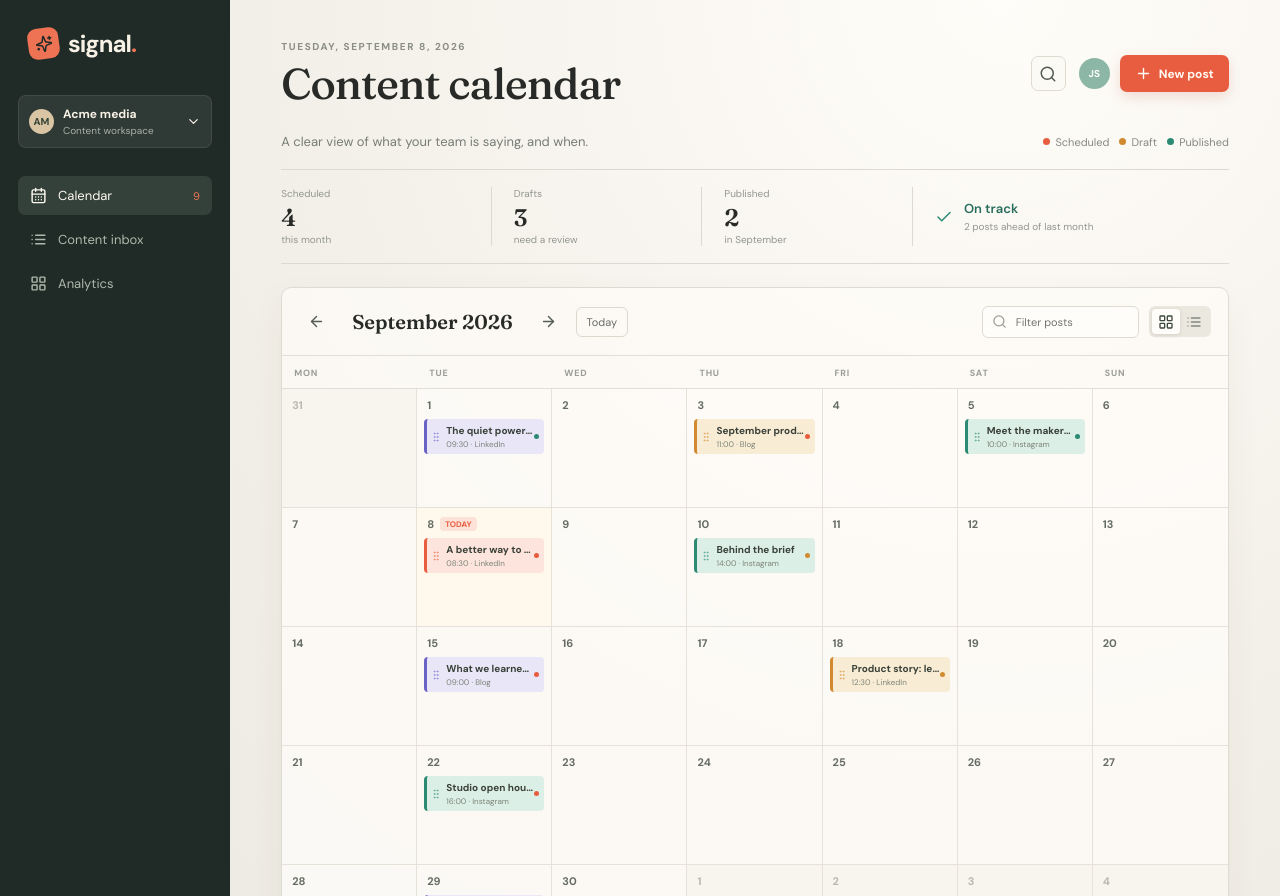
Test: calendar interface › opens the composer and adds a post
Click the button "New post" at (1174, 74), box x1=1120 y1=55 x2=1229 y2=92
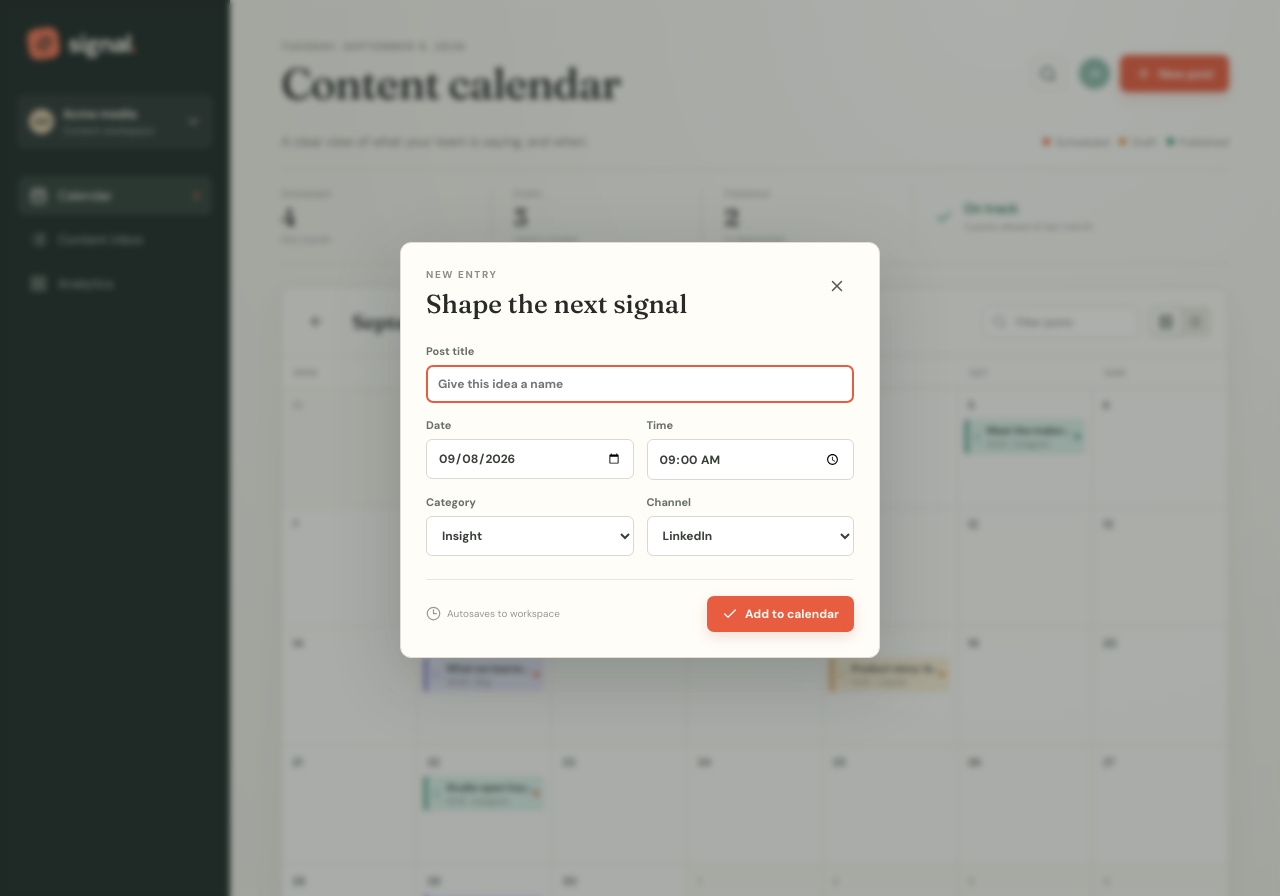
Type "A thoughtful update" into the field labelled "Post title" at (640, 384), box x1=426 y1=365 x2=854 y2=403
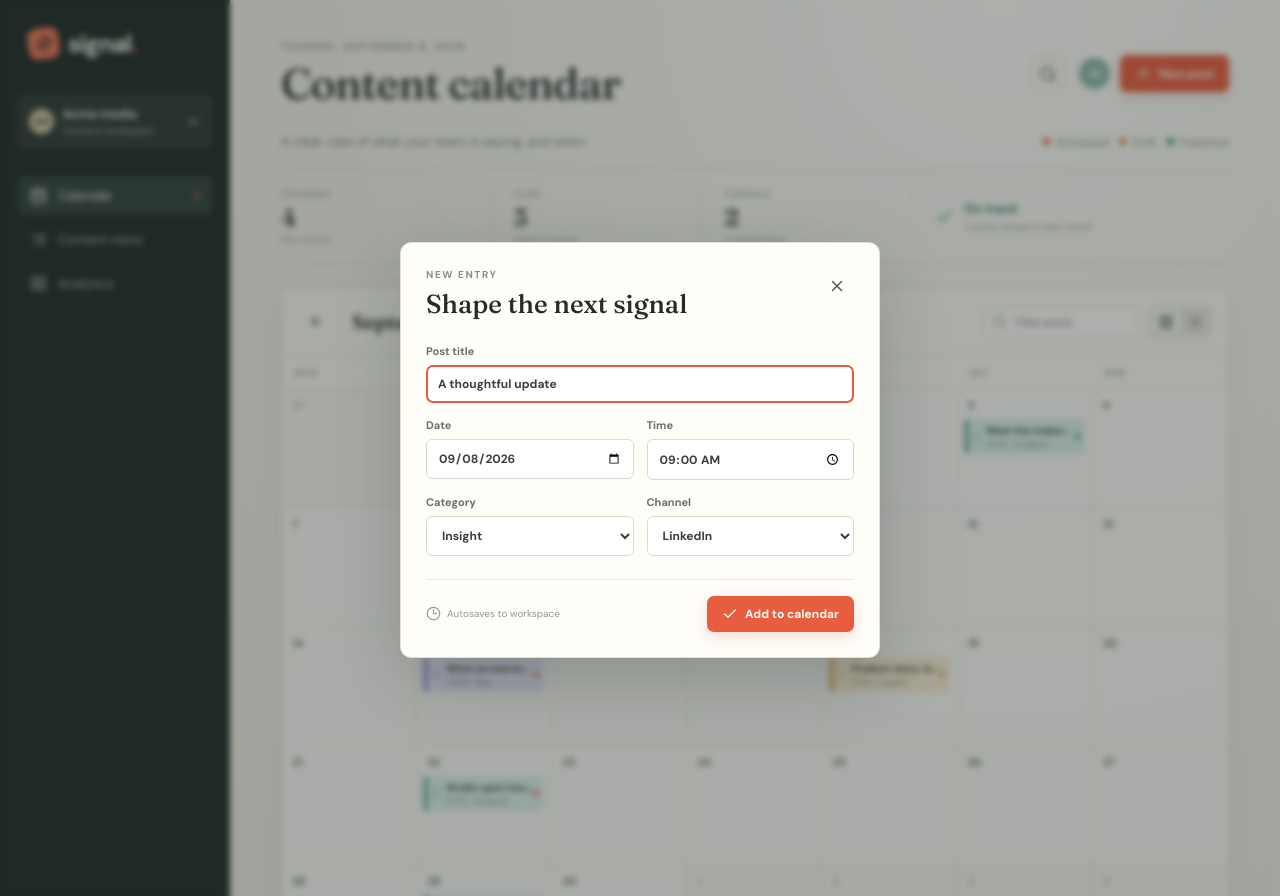
Click the button "Add to calendar" at (781, 614), box x1=707 y1=596 x2=854 y2=632
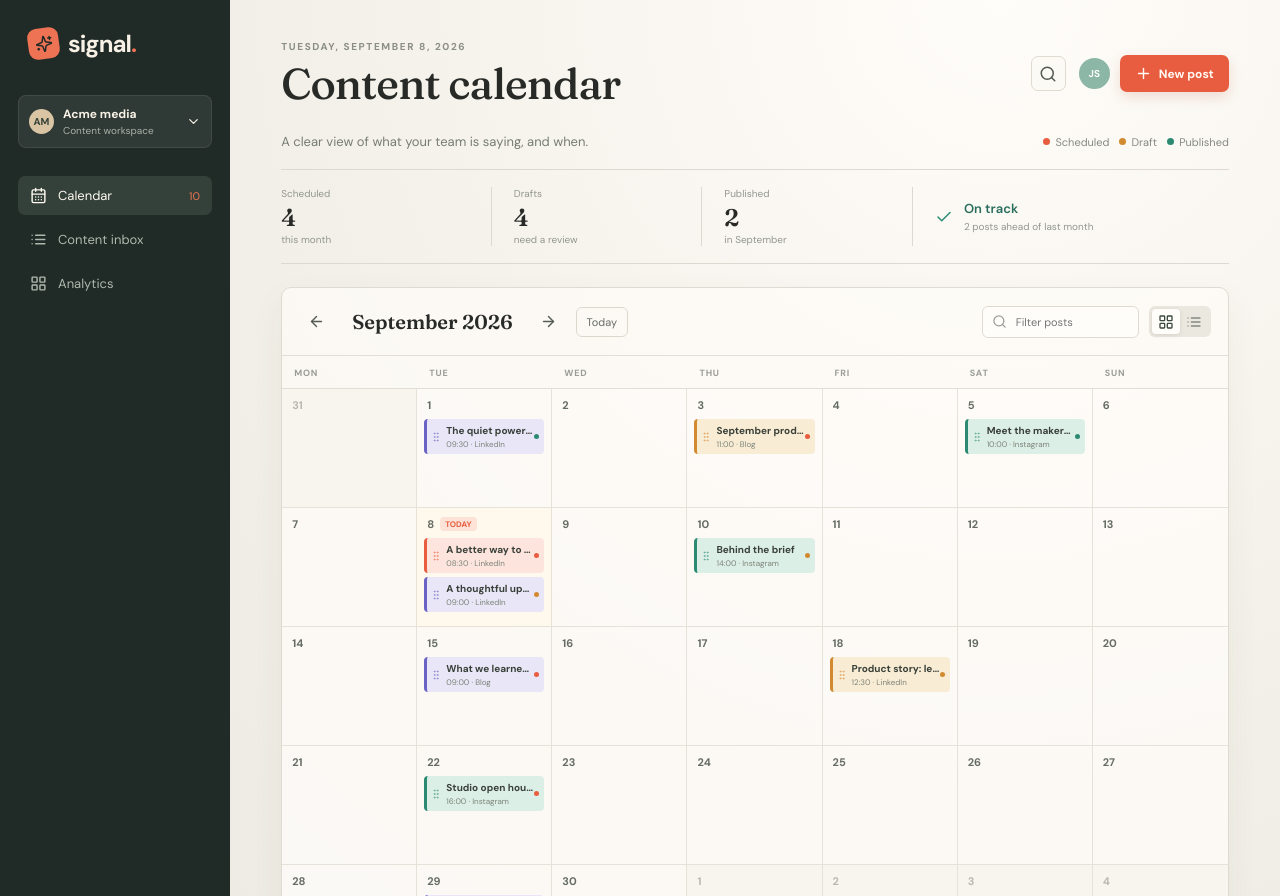
Expected: the text "A thoughtful update" is shown, x1=446 y1=582 x2=534 y2=595
